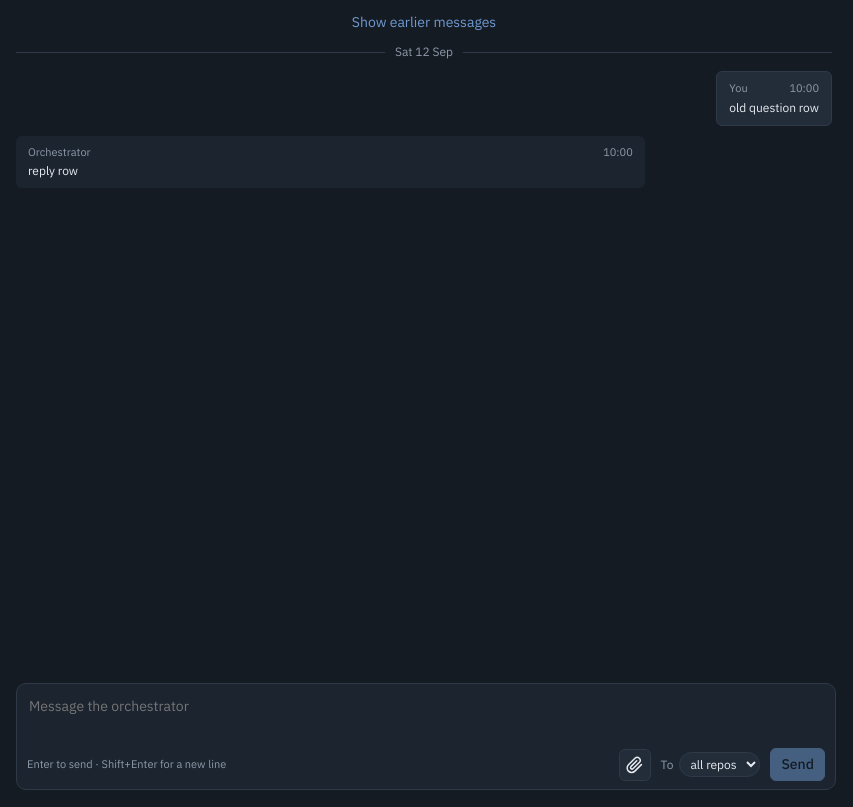
Chat › does not duplicate a referenced older row when the earlier page repeats it
Expected: the text "reply row" is shown, [28,163,78,178]
Click the button "Show earlier messages".
click(424, 22)  # box [16,12,832,33]
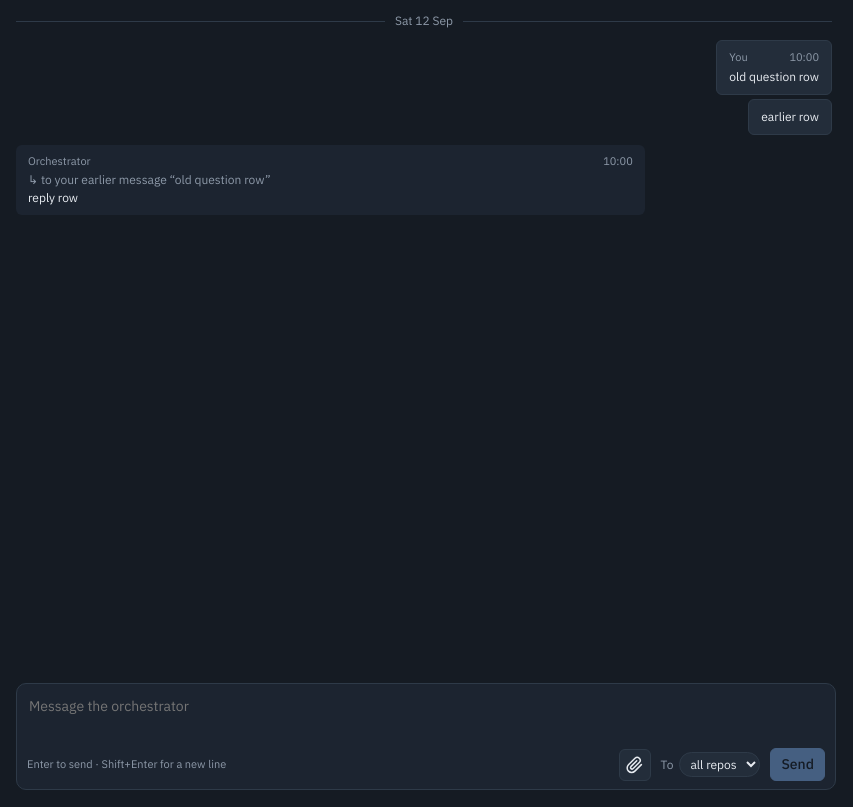
Expected: the text "earlier row" is shown, [761,108,819,126]
Expected: the text "old question row" is shown once, [729,68,819,86]
